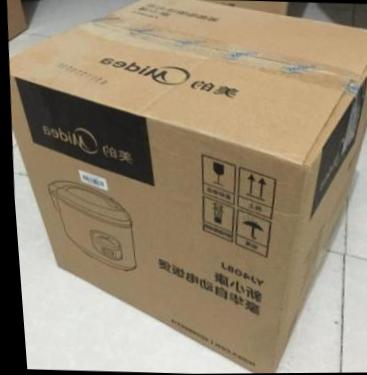cardboard: (10, 0, 366, 372)
